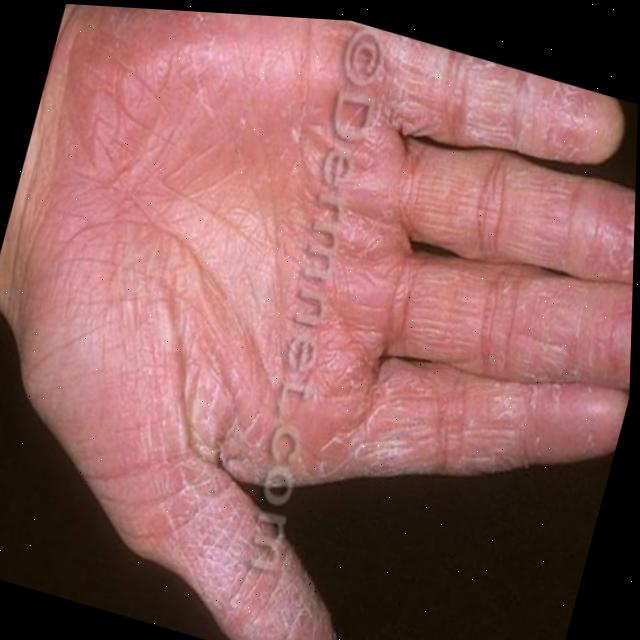Eczema: (120, 8, 640, 640)
